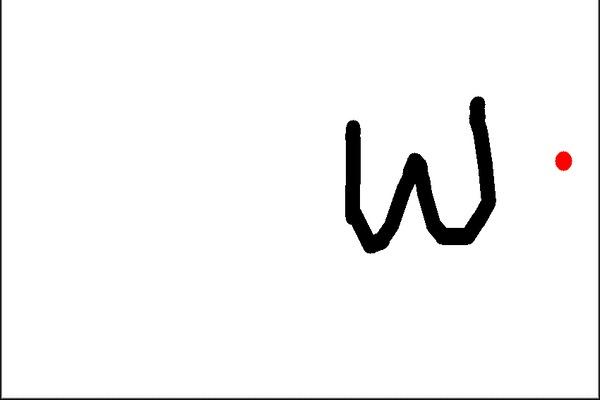w: (331, 87, 511, 263)
